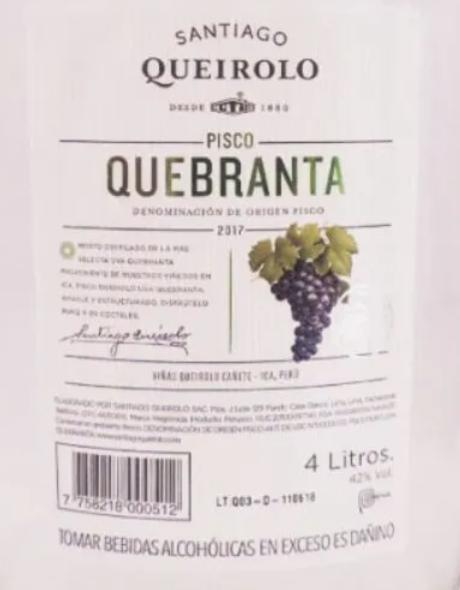brand: (122, 16, 343, 91)
net_weight: (302, 434, 397, 482)
product_name: (98, 127, 353, 203)
